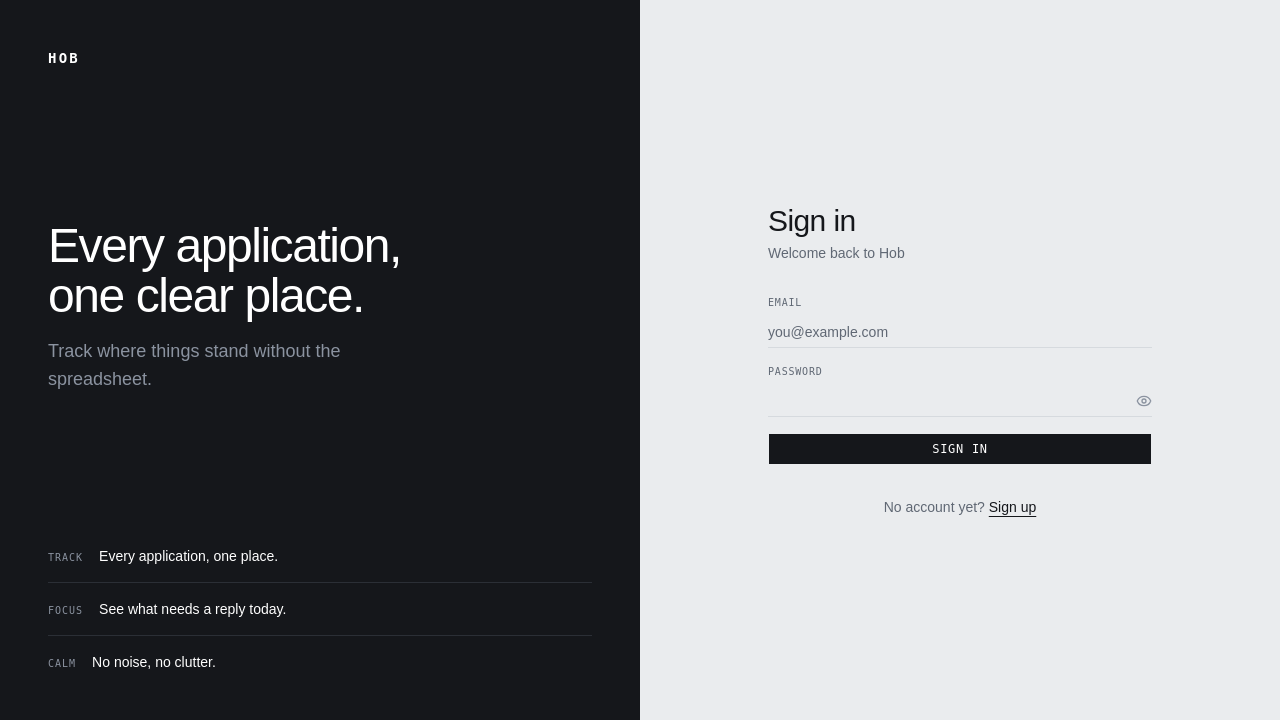
Test: SignInForm › shows the backend message under the form when the password is wrong
expect the heading "Sign in" is shown: met, box [768,204,856,237]
Type "alice@example.com" into the field named "email" at [960, 332], box [768,316,1152,348]
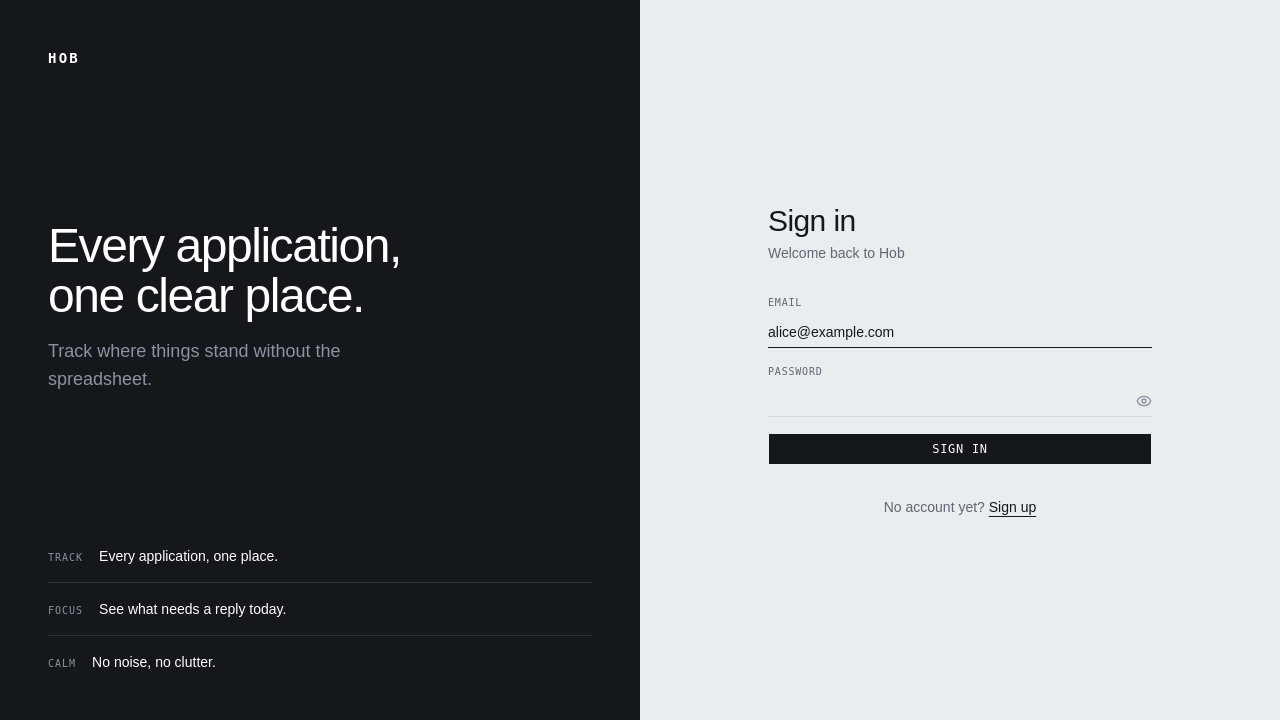
Type "wrongpassword" into the password field named "password" at [960, 401], box [768,385,1152,417]
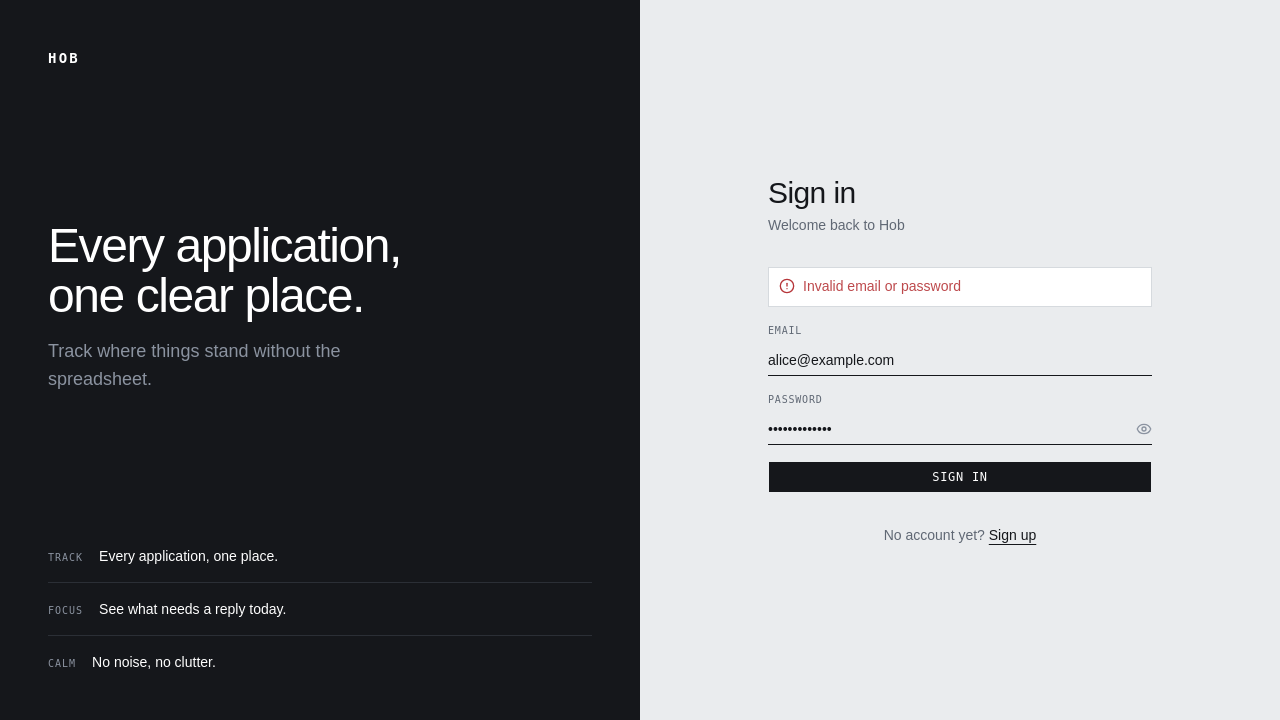
expect the message reads "Invalid email or password": met, box [803,278,961,294]
